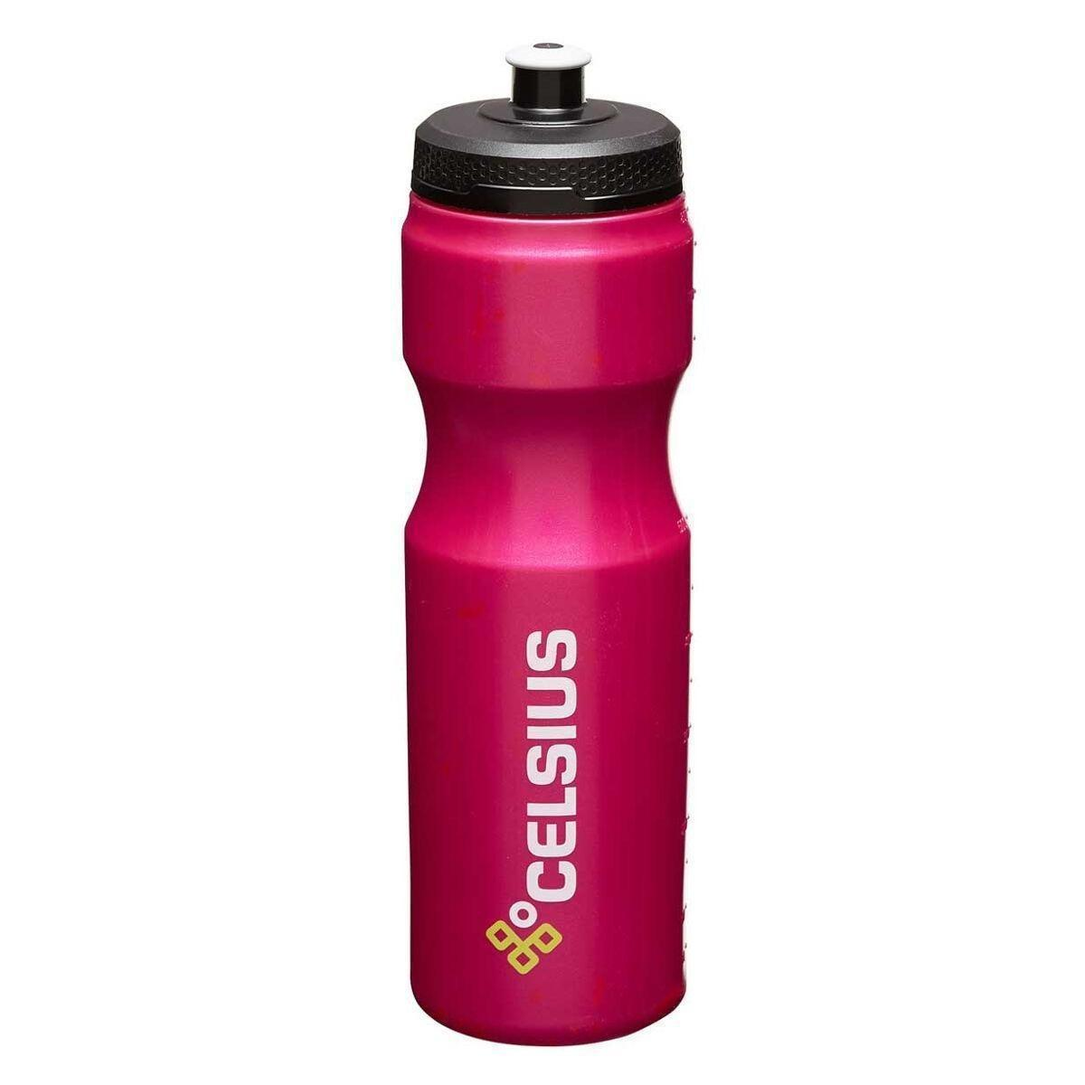gym bottle: (396, 35, 704, 1055)
